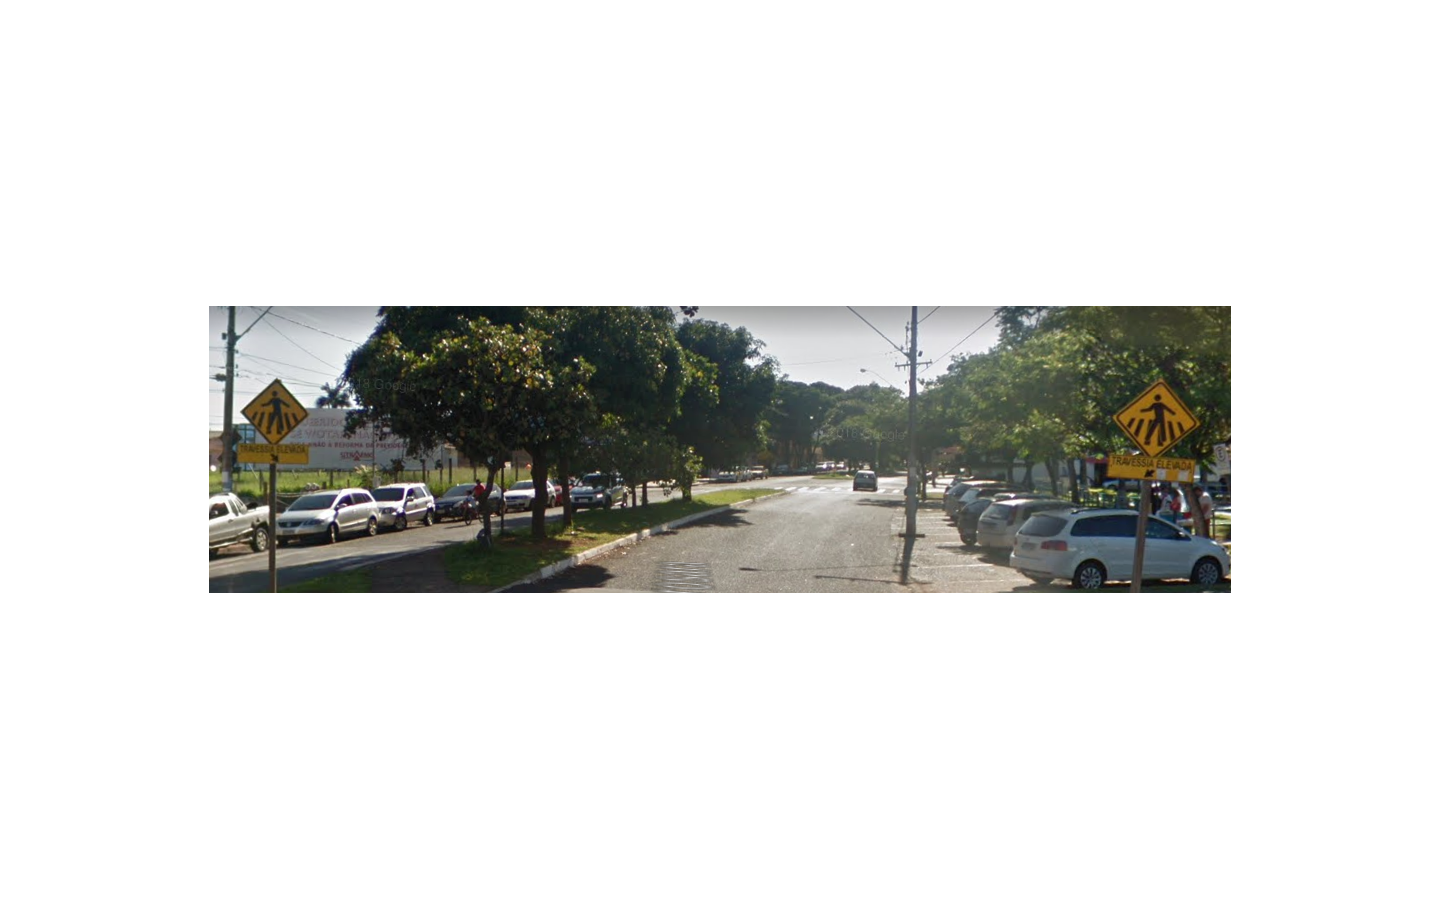telev: (1106, 379, 1201, 482), (236, 377, 308, 465)
